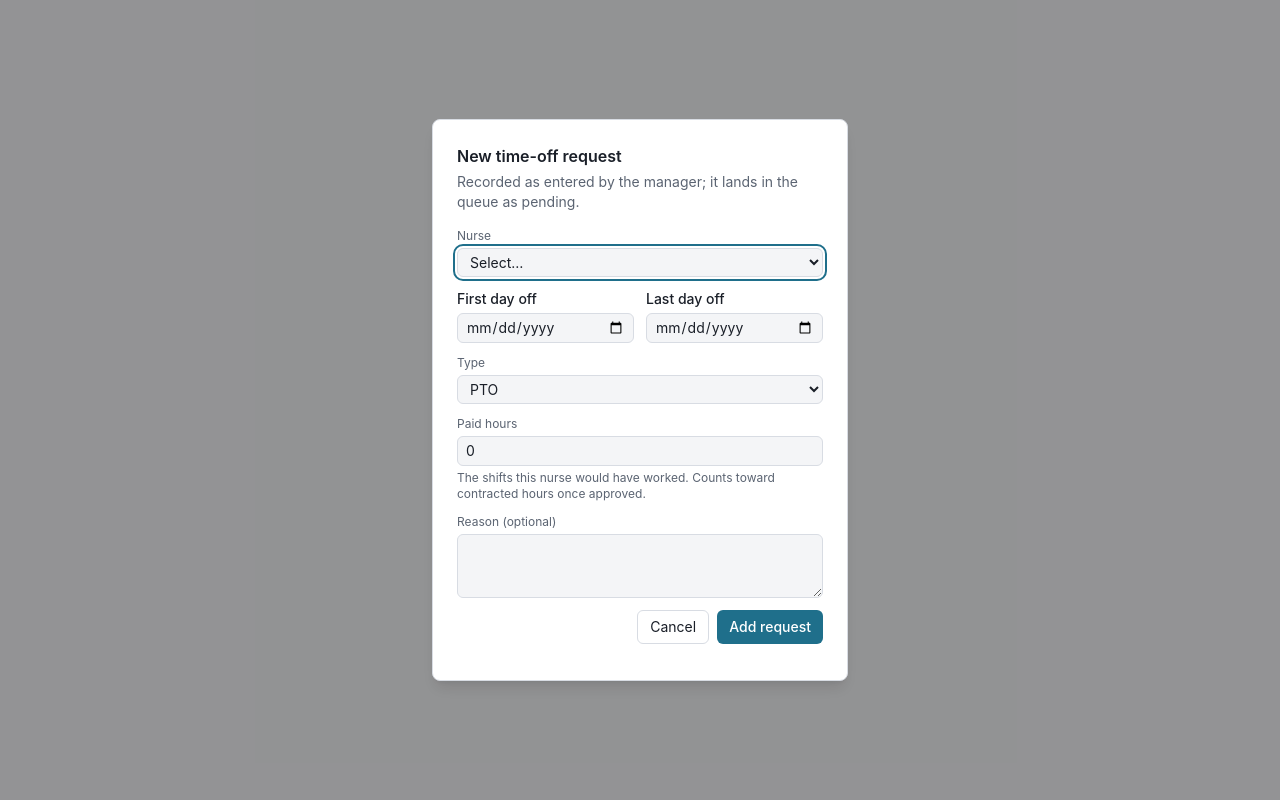
Test: writing a request against the balance on file › tells the manager a 72/80 nurse is charged 40 hours of annual leave for a 36-hour week off
Select "Martinez, Ana (RN)" in the dropdown labelled "Nurse": (640, 262) [457, 248, 823, 277]
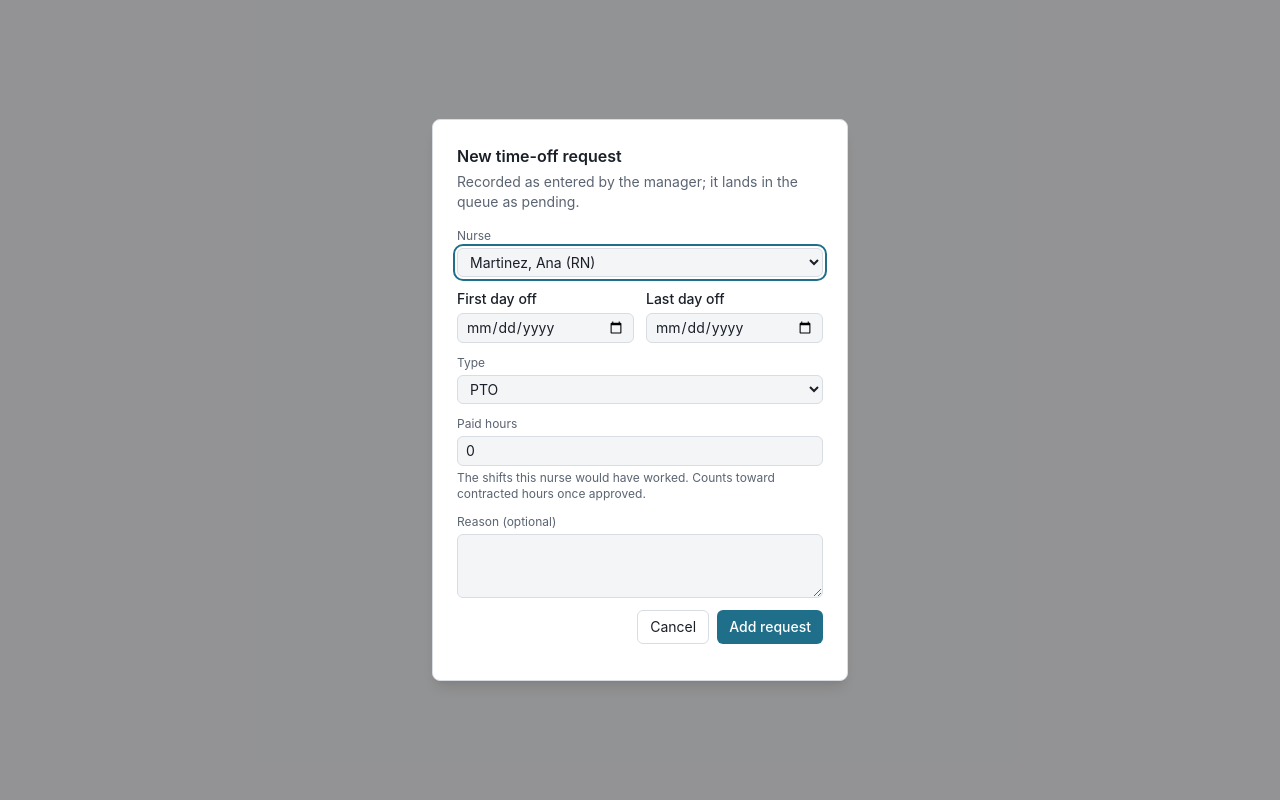
In the date field labelled "First day off": (546, 328) [457, 313, 634, 343], type "2026-10-05"
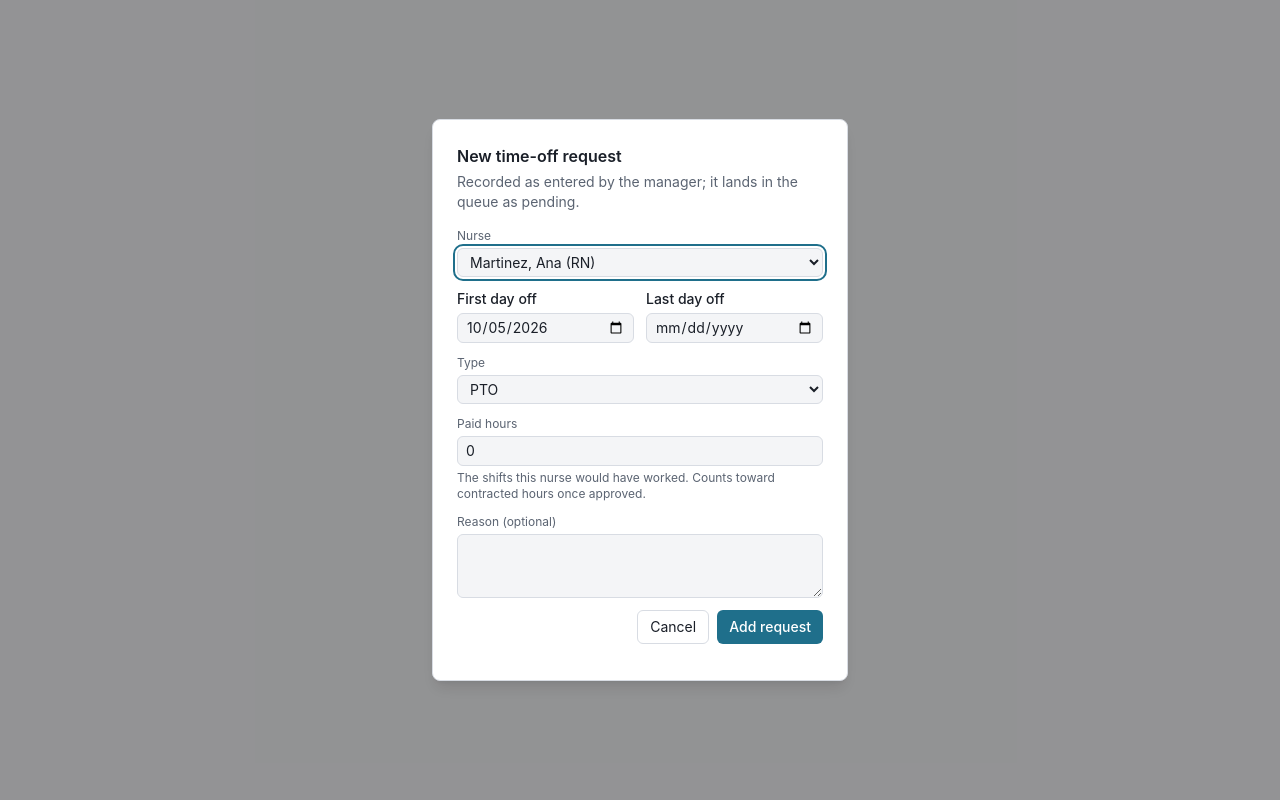
In the date field labelled "Last day off": (734, 328) [646, 313, 823, 343], type "2026-10-11"
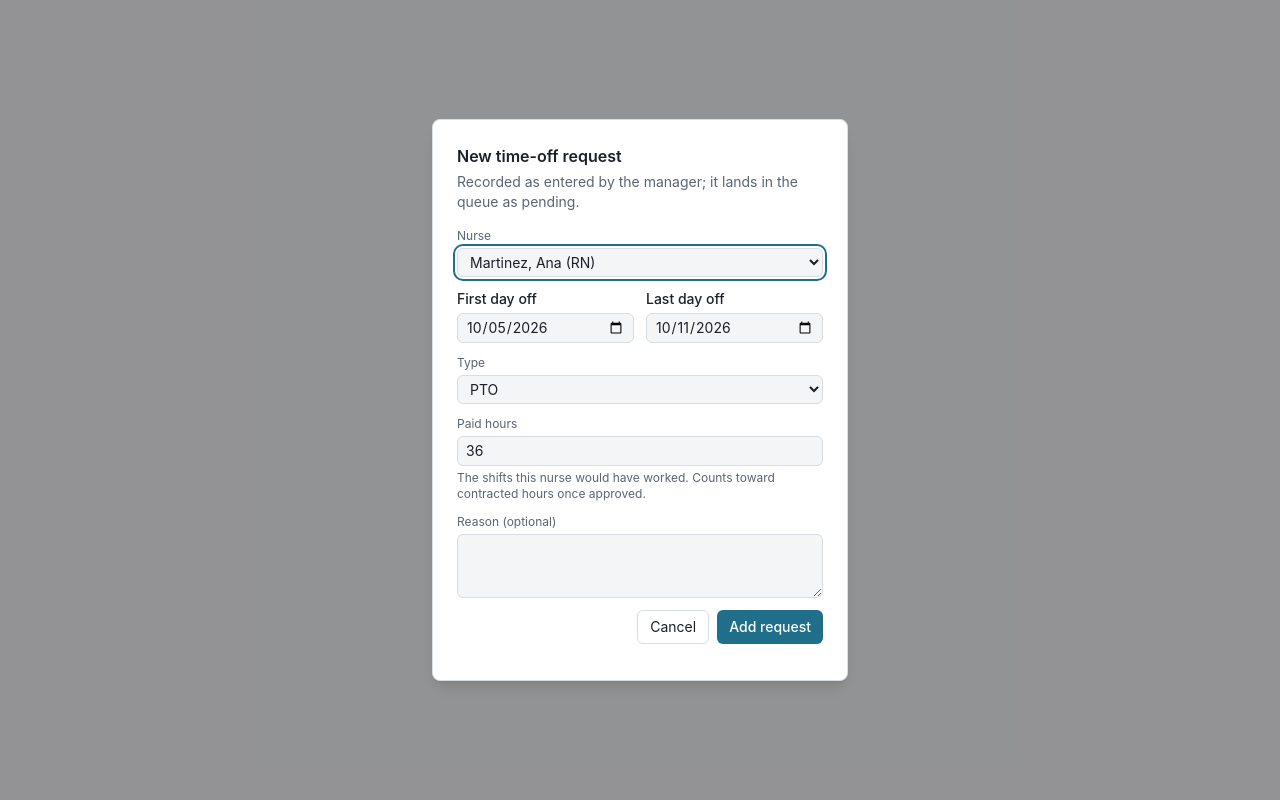
Select "Annual leave" in the dropdown labelled "Type": (640, 390) [457, 375, 823, 404]
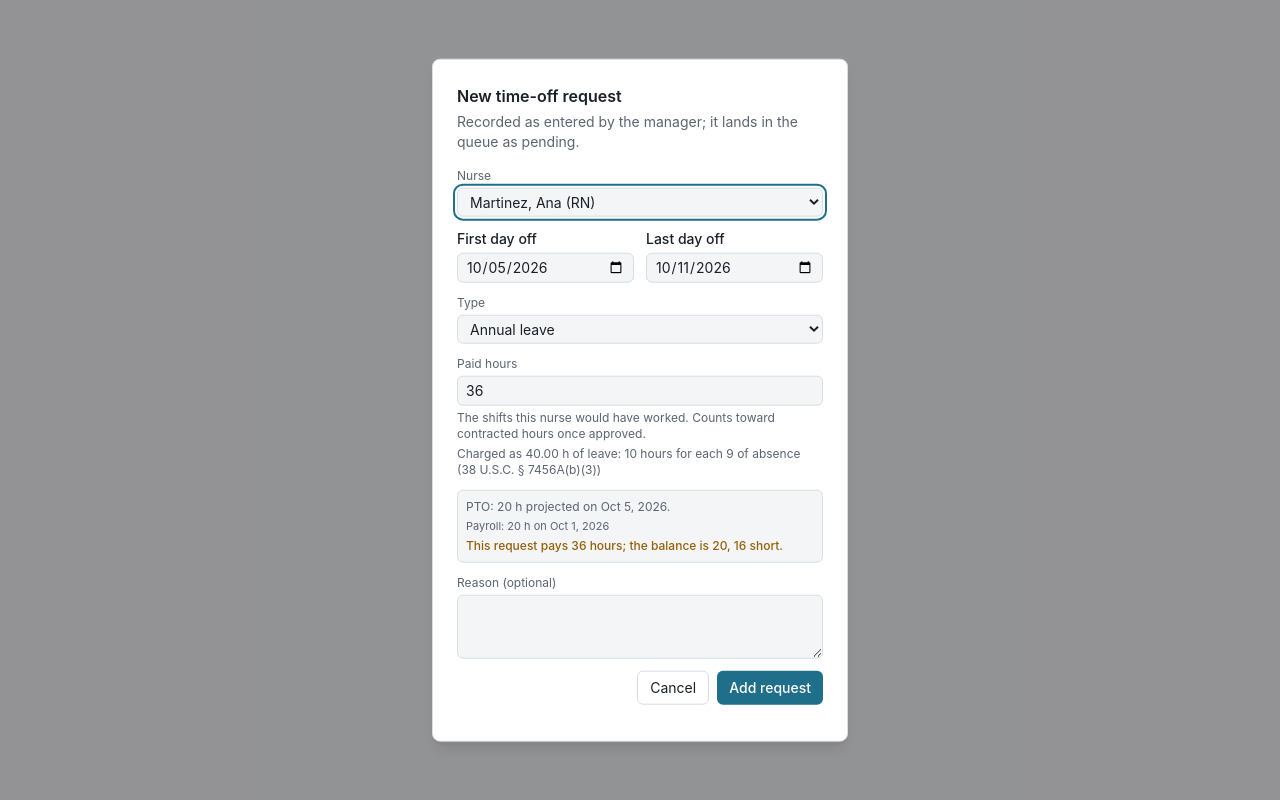
Check: the text "Charged as 40.00 h of leave: 10 hours for each 9 of absence" is shown, box [457, 446, 823, 478]
